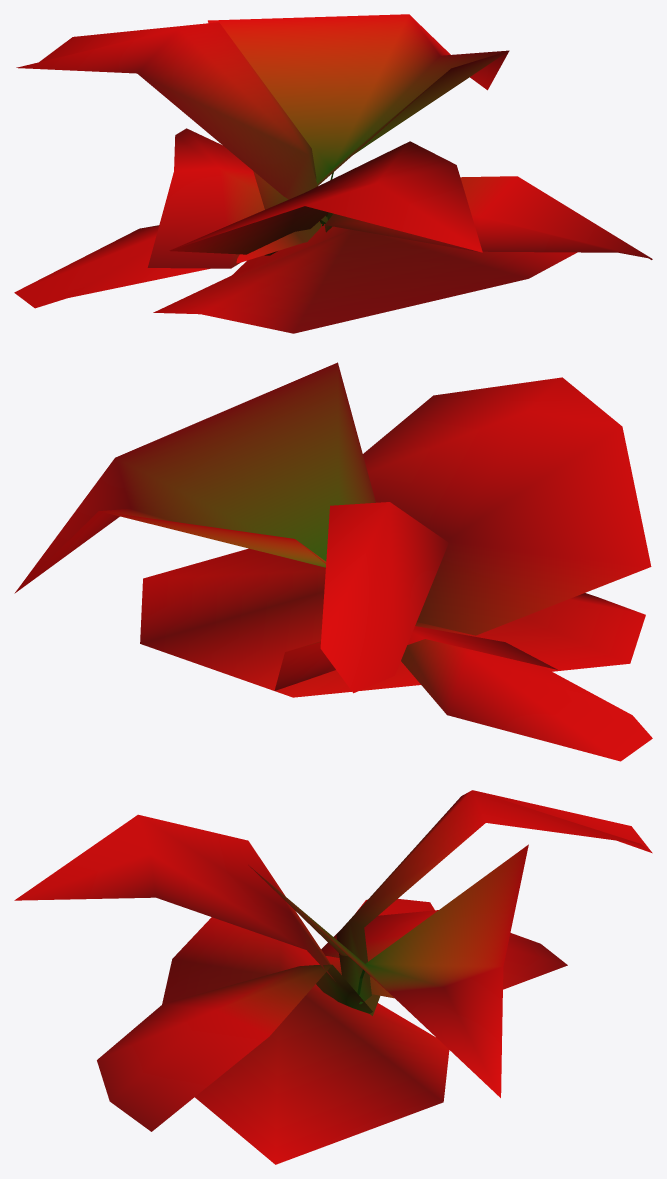
Rendered from Var4_LOD2.fbx.
The picture shows the model from 3 angles, top to bottom: view 1: azimuth 30°, elevation 25°; view 2: azimuth 150°, elevation 25°; view 3: azimuth 270°, elevation 25°; orthographic projection. The views are drawn at different scales.
Parts seen in each view (by area): view 1: _6f39_Var4_LOD2; view 2: _6f39_Var4_LOD2; view 3: _6f39_Var4_LOD2.
Part boxes in pixels (x1,y1,x2,y2): _6f39_Var4_LOD2: (14,14,652,333); _6f39_Var4_LOD2: (14,362,652,761); _6f39_Var4_LOD2: (14,790,652,1164).
Size of the model in its own units: 116 by 48.31 by 126.
